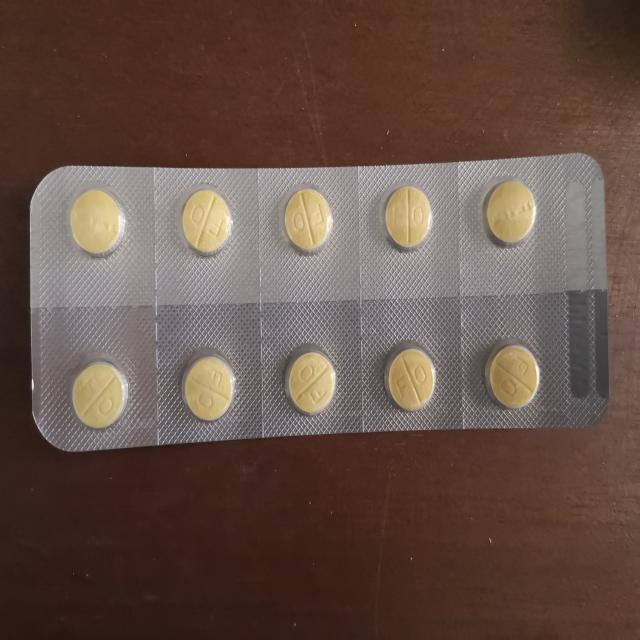Pill: (171, 184, 239, 260), (276, 342, 343, 419), (176, 346, 239, 425), (479, 174, 540, 253), (274, 184, 339, 258), (65, 356, 128, 432), (64, 186, 130, 258), (480, 340, 542, 415), (376, 179, 436, 256), (380, 342, 439, 416)
